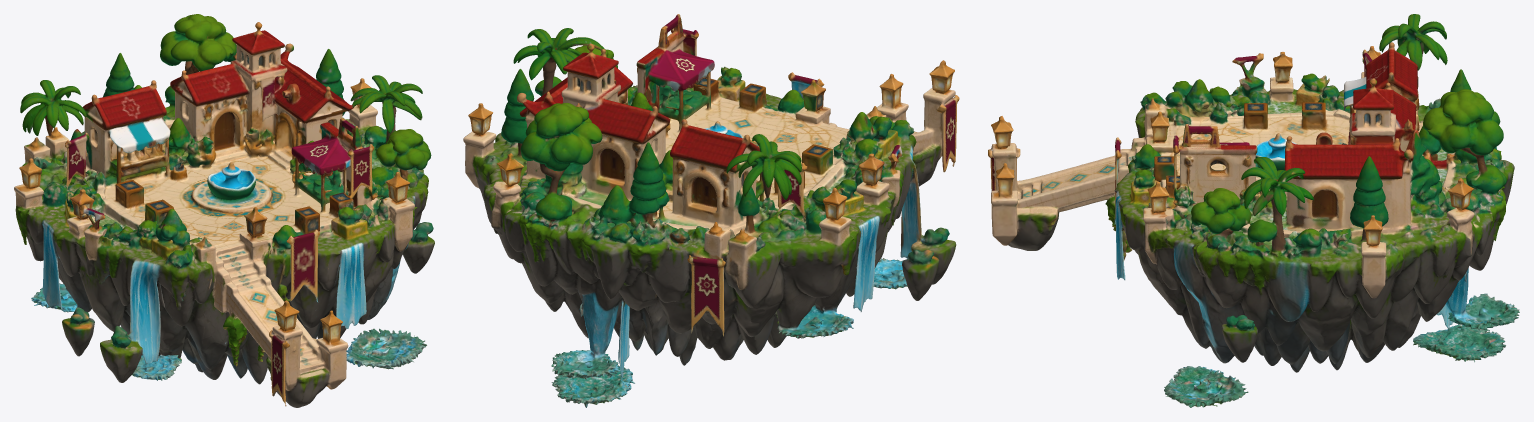
File: meshy-pulauadab.glb
The picture shows the model from 3 angles, left to right: view 1: azimuth 30°, elevation 25°; view 2: azimuth 150°, elevation 25°; view 3: azimuth 270°, elevation 25°; orthographic projection. The views are drawn at different scales.
Bounding box in the file's own units: 1.57 × 1.24 × 1.88.
Materials: 1 (1 with a texture image).
